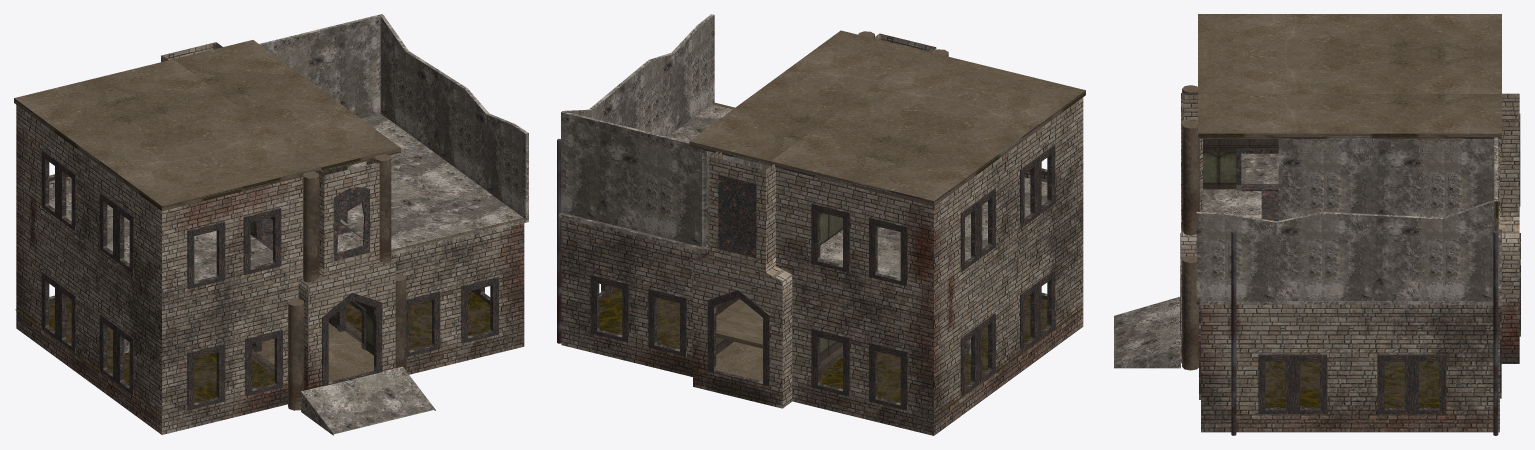
Rendered from Building04_Set.fbx.
3 renders of one model, left to right at view 1: azimuth 30°, elevation 25°; view 2: azimuth 150°, elevation 25°; view 3: azimuth 270°, elevation 25°, orthographic. The views are drawn at different scales.
Parts seen in each view (by area): view 1: Building04_Set; view 2: Building04_Set; view 3: Building04_Set.
Boxes of the visible parts, box(x1,y1,x2,y2) form: Building04_Set: box(14, 14, 528, 435); Building04_Set: box(557, 14, 1085, 435); Building04_Set: box(1114, 14, 1520, 435).
Size of the model in its own units: 31.07 by 18.56 by 28.76.
